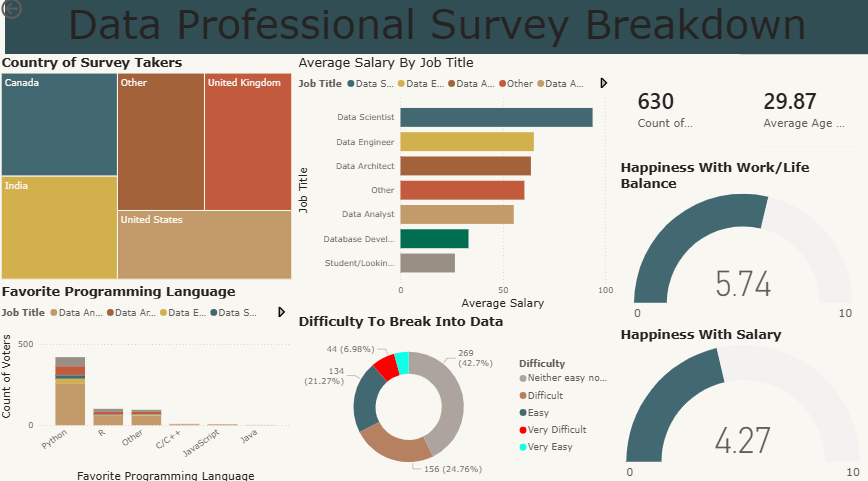

This screenshot's page, from the dashboard's own definition file:
{"tool":"powerbi","page":{"name":"Page 1","canvas":[1280,720],"ordinal":0},"visuals":[{"type":"textbox","box":[10.1,0,1269.9,87.3],"z":0},{"type":"cardVisual","fields":{"Data":["CountNonNull(Data Professional Survey.Unique ID)"]},"box":[909.3,86.9,181.5,154.4],"z":1000},{"type":"cardVisual","fields":{"Data":["Avg(Data Professional Survey.Q10 - Current Age)"]},"box":[1094.7,88.8,185.3,152.5],"z":2000},{"type":"barChart","title":"Average Salary By Job Title","fields":{"Category":["Data Professional Survey.Q1 - Which Title Best Fits your Current Role?.1"],"Y":["Avg(Data Professional Survey.Average Salary)"],"Series":["Data Professional Survey.Q1 - Which Title Best Fits your Current Role?.1"]},"box":[436.3,86.9,473,380.3],"z":3000},{"type":"columnChart","title":" Favorite Programming Language","fields":{"Category":["Data Professional Survey.Q5 - Favorite Programming Language.1"],"Y":["CountNonNull(Data Professional Survey.Unique ID)"],"Series":["Data Professional Survey.Q1 - Which Title Best Fits your Current Role?.1"]},"box":[0,422.8,436.3,297.3],"z":4000},{"type":"treemap","title":"Country of Survey Takers","fields":{"Group":["Data Professional Survey.Q11 - Which Country do you live in?.1"],"Values":["Count(Data Professional Survey.Q11 - Which Country do you live in?.1)"]},"box":[0,86.9,436.3,335.9],"z":5000},{"type":"actionButton","box":[0,0,100,40],"z":6000},{"type":"gauge","title":"Happiness With Work/Life Balance","fields":{"Y":["Avg(Data Professional Survey.Q6 - How Happy are you in your Current Position with the following? (Work/Life Balance))"],"MinValue":["Min(Data Professional Survey.Q6 - How Happy are you in your Current Position with the following? (Work/Life Balance))1"],"MaxValue":["Max(Data Professional Survey.Q6 - How Happy are you in your Current Position with the following? (Work/Life Balance))2"]},"box":[909.3,241.3,370.7,245.2],"z":7000},{"type":"gauge","title":"Happiness With Salary","fields":{"Y":["Avg(Data Professional Survey.Q6 - How Happy are you in your Current Position with the following? (Salary))"],"MinValue":["Min(Data Professional Survey.Q6 - How Happy are you in your Current Position with the following? (Salary))"],"MaxValue":["Max(Data Professional Survey.Q6 - How Happy are you in your Current Position with the following? (Salary))"]},"box":[909.3,486.5,370.7,233.6],"z":8000},{"type":"donutChart","title":"Difficulty To Break Into Data","fields":{"Category":["Data Professional Survey.Q7 - How difficult was it for you to break into Data?"],"Y":["CountNonNull(Data Professional Survey.Q7 - How difficult was it for you to break into Data?)"]},"box":[436.3,467.2,473,252.9],"z":9000}]}

Visuals, with their boxes in screenshot pixels (x1, y1, x2, y2), scaled from the page's 1280x720 canvas onto the 868x481 screenshot:
textbox: (x1=7, y1=0, x2=867, y2=58)
cardVisual - CountNonNull(Data Professional Survey.Unique ID): (x1=617, y1=58, x2=740, y2=161)
cardVisual - Avg(Data Professional Survey.Q10 - Current Age): (x1=742, y1=59, x2=867, y2=161)
"Average Salary By Job Title" barChart: (x1=296, y1=58, x2=617, y2=312)
" Favorite Programming Language" columnChart: (x1=0, y1=282, x2=296, y2=480)
"Country of Survey Takers" treemap: (x1=0, y1=58, x2=296, y2=282)
actionButton: (x1=0, y1=0, x2=68, y2=27)
"Happiness With Work/Life Balance" gauge: (x1=617, y1=161, x2=867, y2=325)
"Happiness With Salary" gauge: (x1=617, y1=325, x2=867, y2=480)
"Difficulty To Break Into Data" donutChart: (x1=296, y1=312, x2=617, y2=480)
